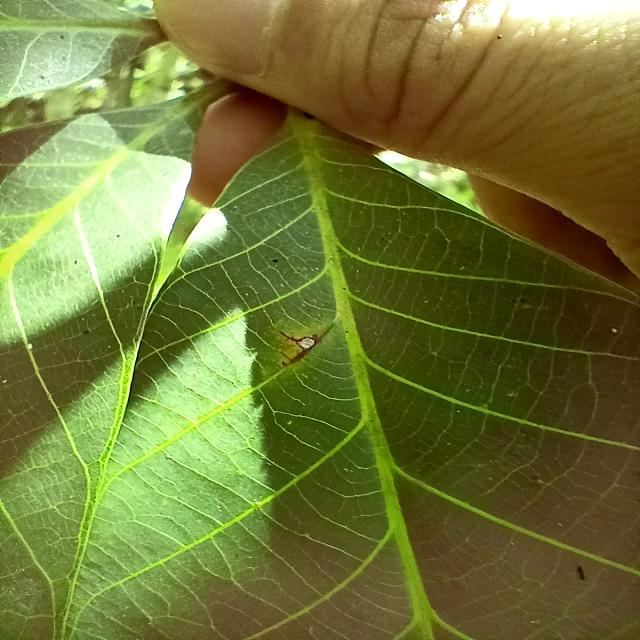Corynespora: (280, 325, 299, 342)
Leaf-Blight: (298, 335, 320, 353)
